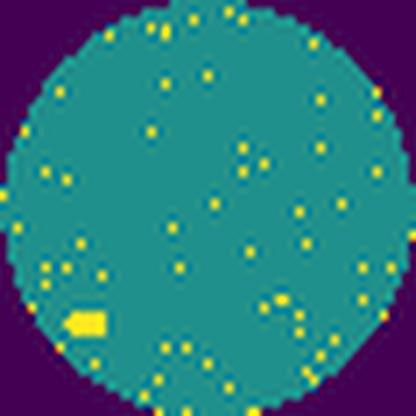Loc: (66, 306, 109, 338)
